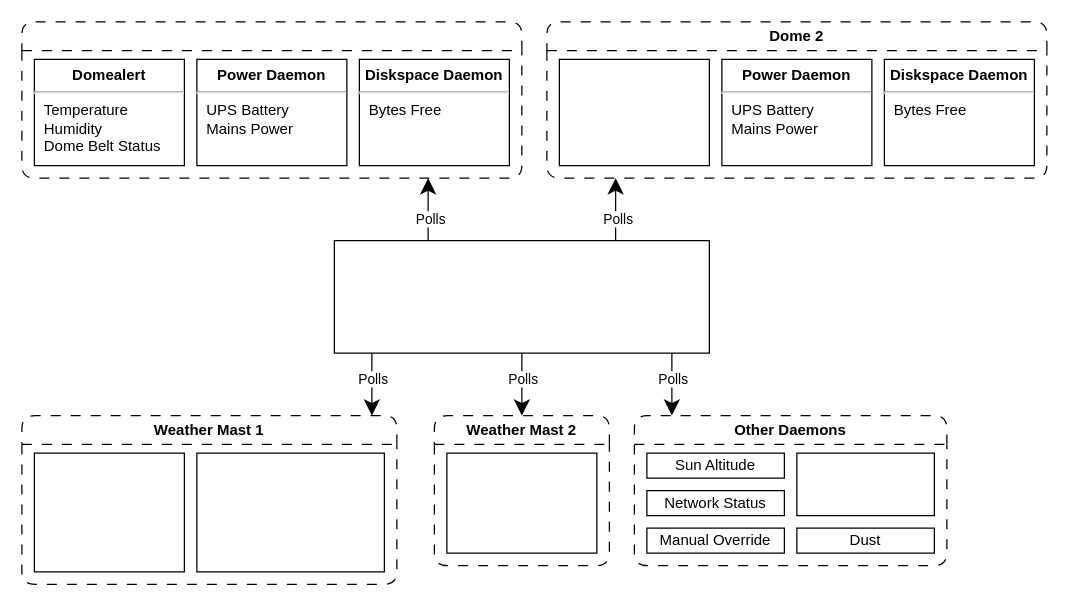
Image size: 1069x606. Some labels were removed from this diagram. Each missing label, with the box of its shape:
Cloudwatcher Daemon Sky Temperature Brightness: (196, 452, 384, 572)
Dome 1: (21, 21, 522, 178)
Domealert Temperature Humidity: (558, 58, 709, 166)
Environment Daemon: (333, 239, 709, 353)
Info scraped from internet: (796, 452, 934, 516)
Vaisala Daemon Temperature Humidity Wind: (446, 452, 597, 553)
Vaisala Daemon Temperature Humidity Wind Rain Sensors: (33, 452, 184, 572)
